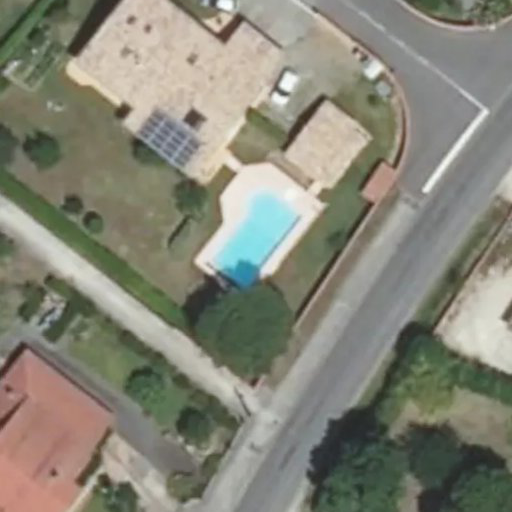pool: (207, 181, 299, 290)
